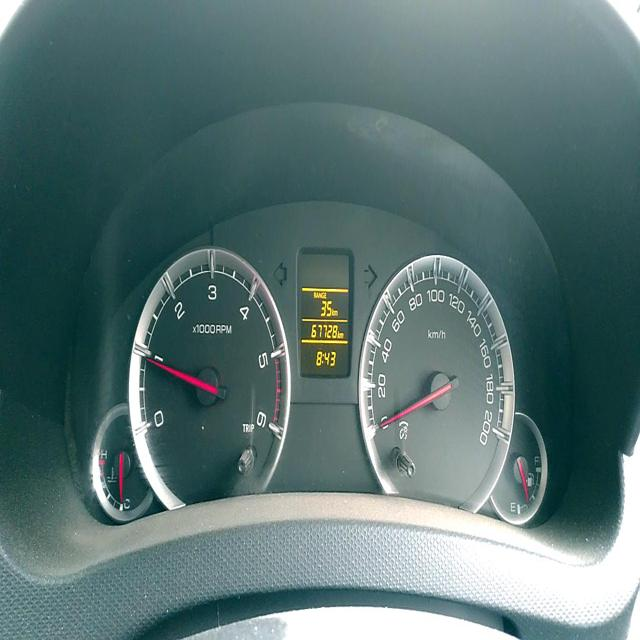odometer: (305, 320, 340, 342)
